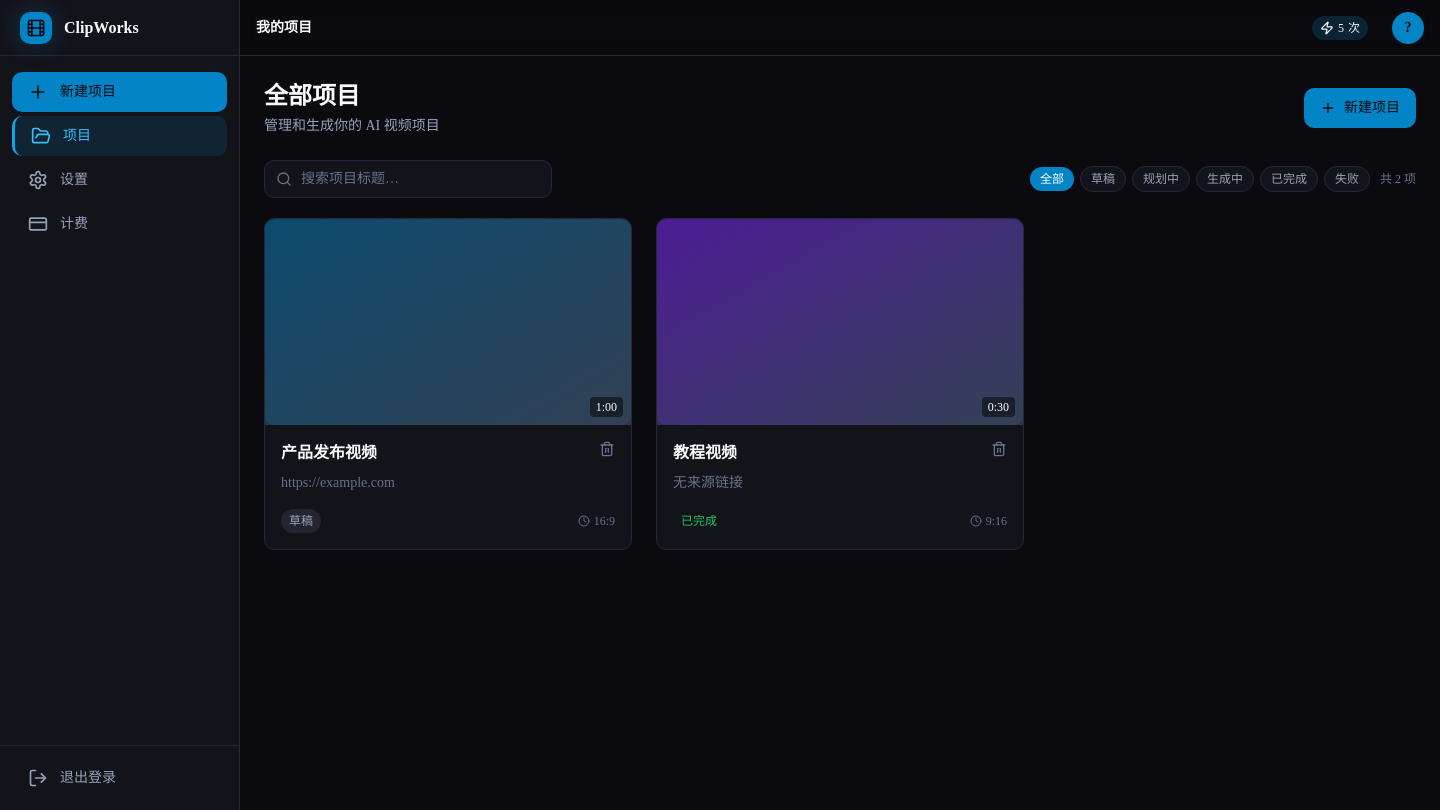
Scenario: ProjectsPage › deletes a project and reloads the list
Check: the link "产品发布视频" is shown, box [281, 441, 377, 465]
Click the button named "delete" in the row of "产品发布视频" at (607, 449), box [599, 441, 615, 457]
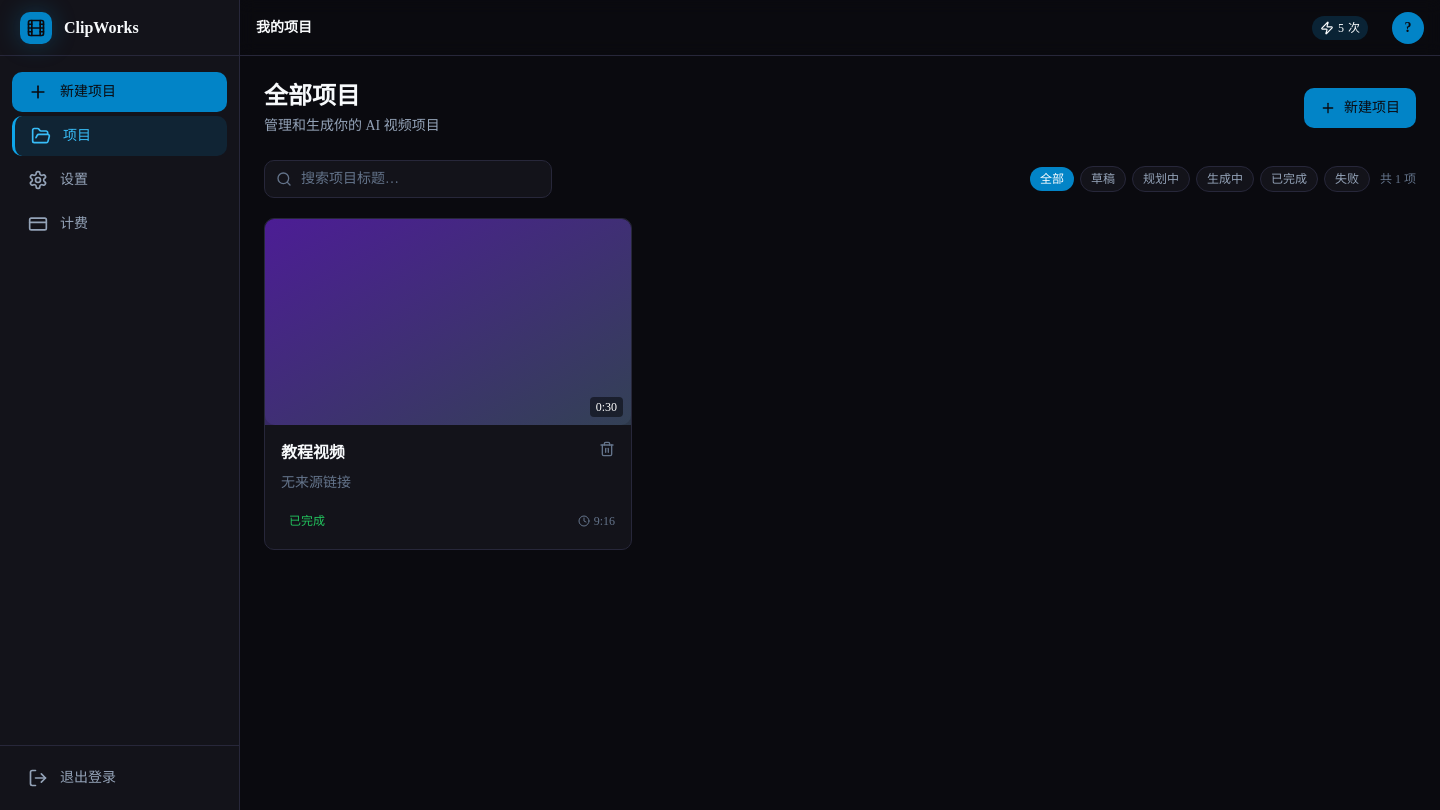
Check: the link "教程视频" is shown, box [281, 441, 345, 465]
Check: the link "产品发布视频" is gone
